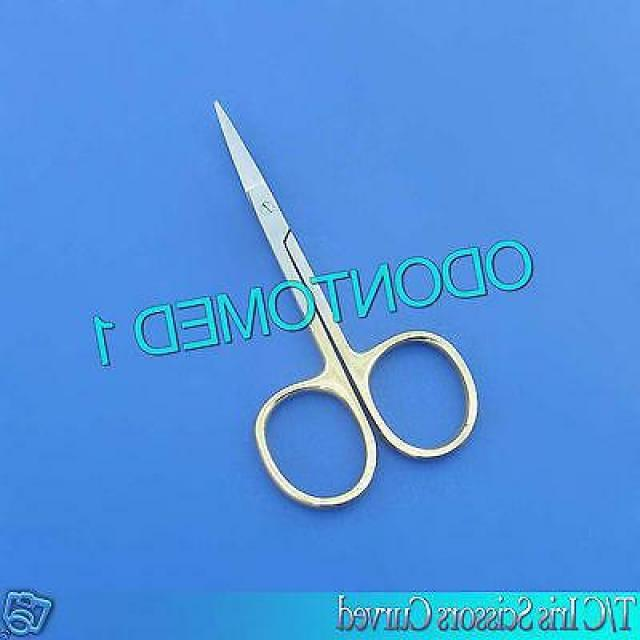Iris: (209, 96, 482, 514)
